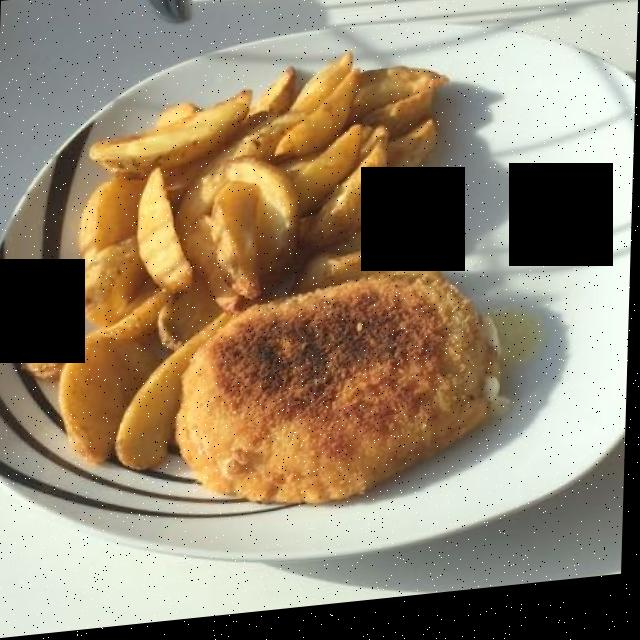cordon-bleu-from-pork-schnitzel-fried: (181, 280, 513, 510)
potatoes-steamed: (26, 61, 466, 465)
